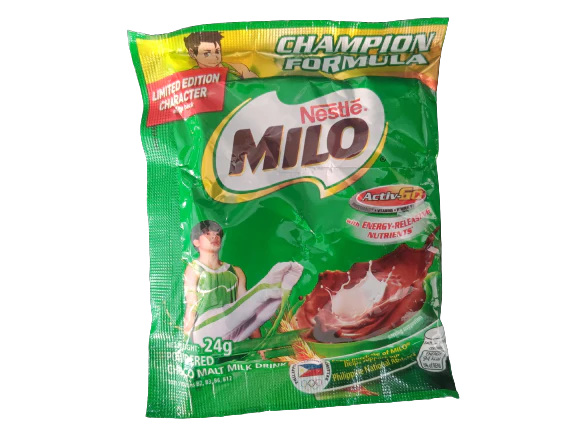non-toxic_waste: (125, 28, 464, 415)
